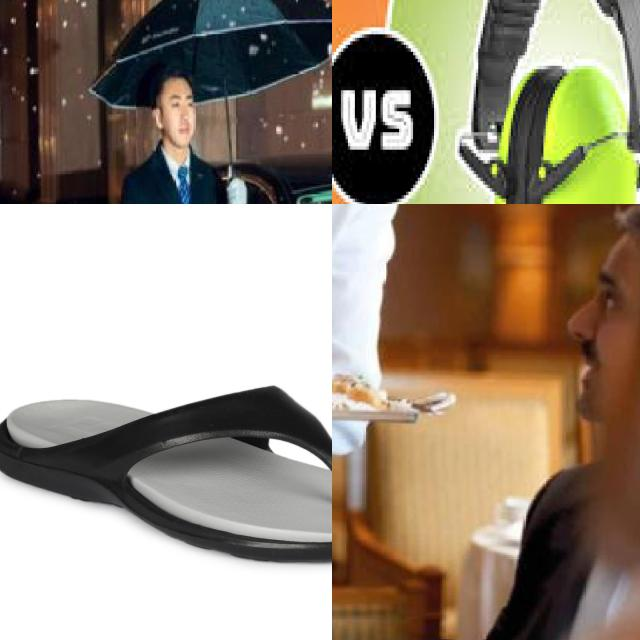Ear-protection: (538, 55, 640, 204), (487, 58, 541, 204)
Sandals: (0, 382, 332, 565)
face_nomask: (556, 262, 637, 397), (167, 94, 200, 146)
hand_glove: (225, 171, 247, 204)
head_nohelmet: (152, 70, 198, 98)
person: (119, 60, 248, 204)
